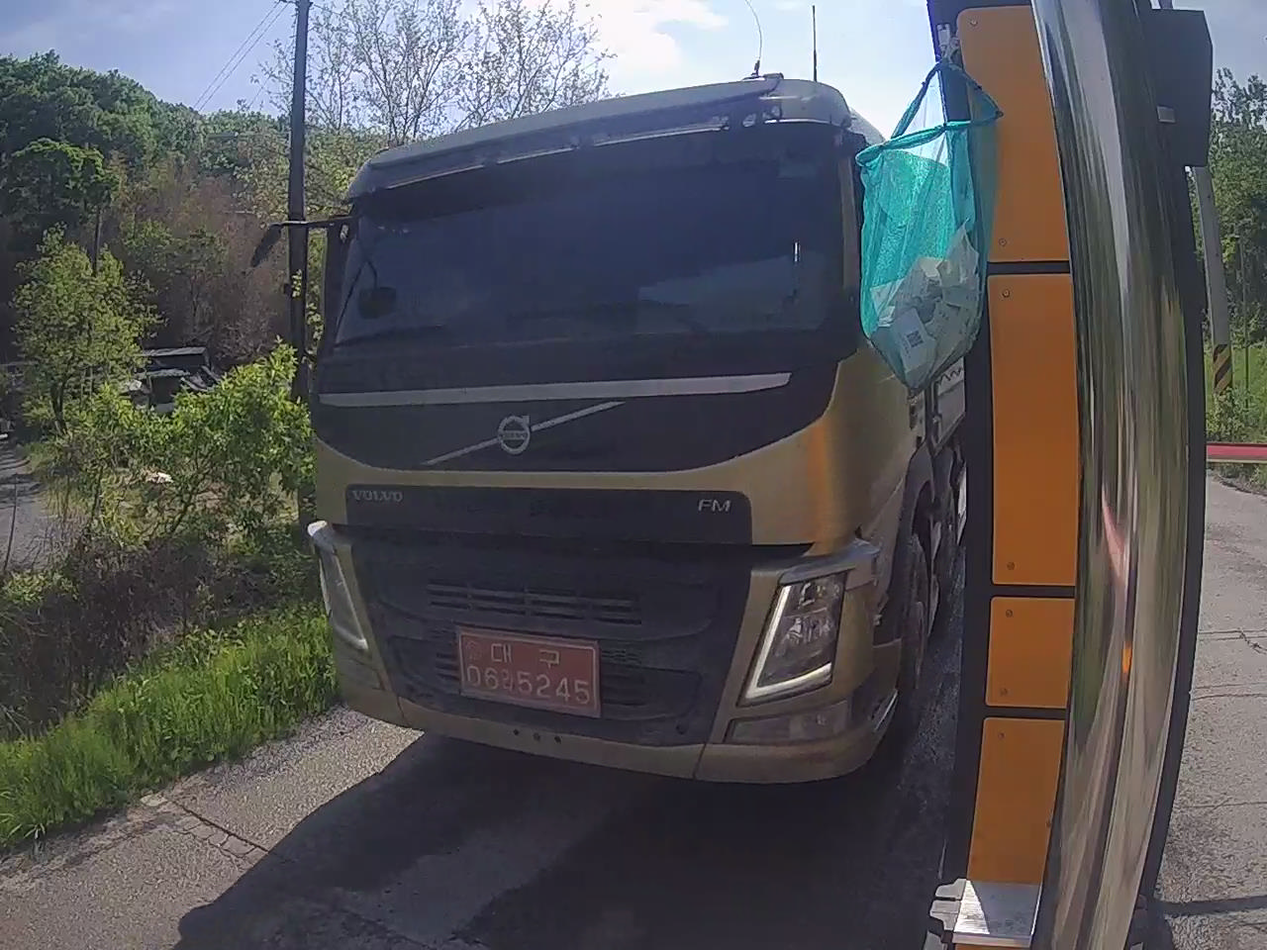license_plate: (458, 631, 599, 716)
truck: (309, 76, 963, 781)
